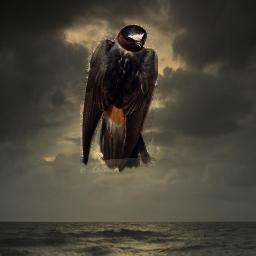Swallow: (80, 24, 158, 173)
